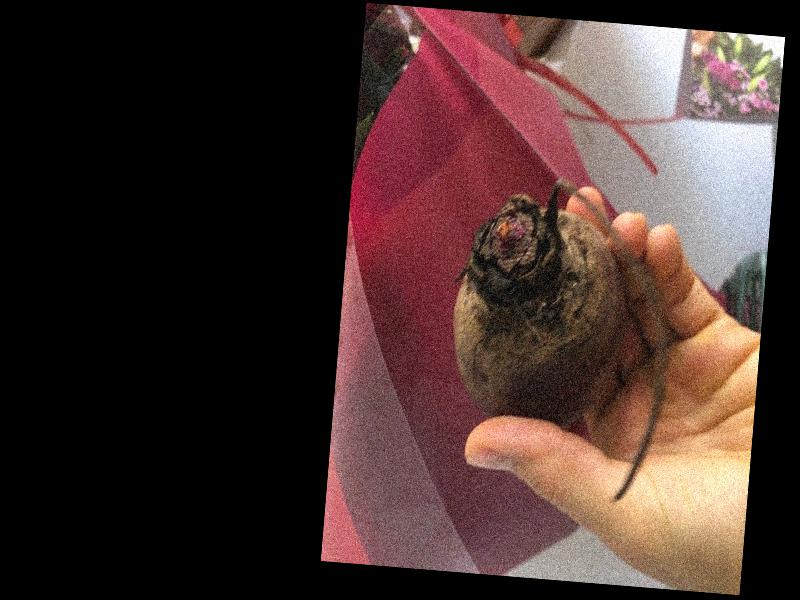Beet: (439, 168, 679, 505)
